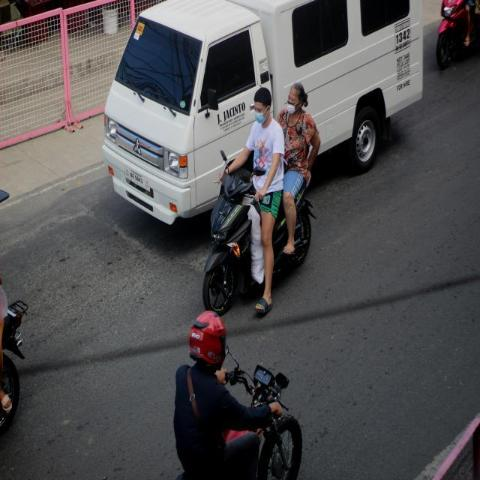motorcycle: (202, 81, 322, 318), (148, 353, 325, 480), (434, 0, 480, 70)
van: (100, 0, 431, 235)
